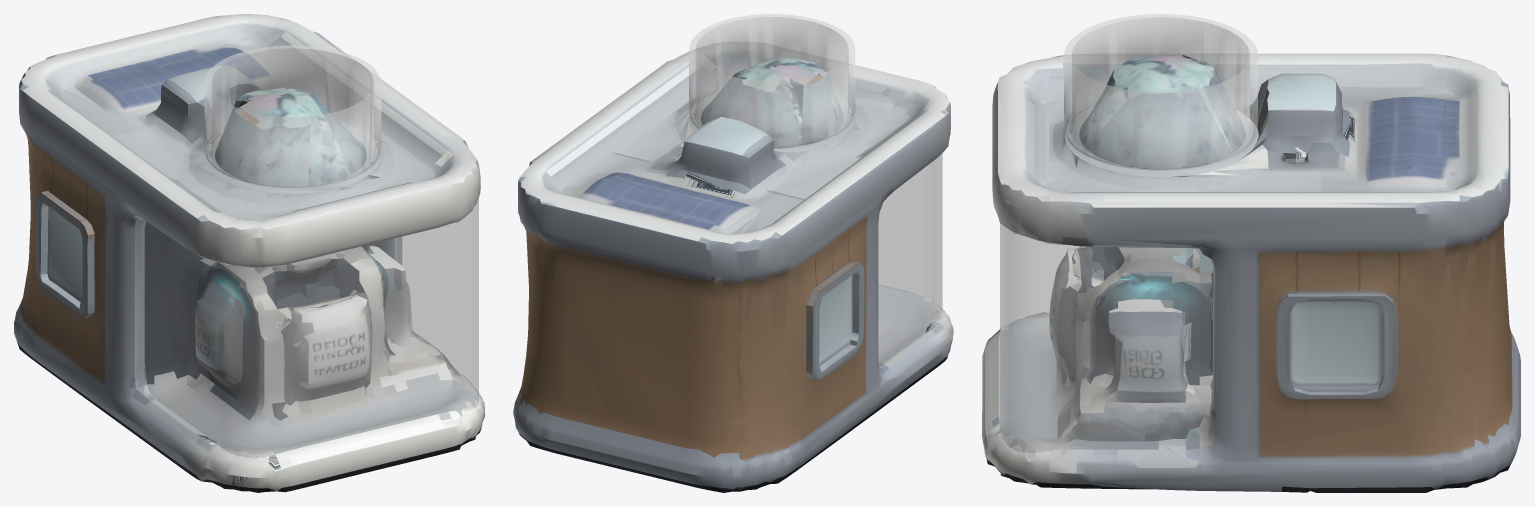
The model's file is wrappingmachine 2.fbx.
3 views of the same model, side by side, from view 1: azimuth 30°, elevation 25°; view 2: azimuth 150°, elevation 25°; view 3: azimuth 270°, elevation 25° (orthographic). The views are drawn at different scales.
Visible parts, largest first — view 1: building_retopo, Cube, building_retopo.001; view 2: building_retopo, building_retopo.001, Cube; view 3: building_retopo, Cube, building_retopo.001.
Boxes of the visible parts, x1,y1,x2,y2 form: building_retopo: [14, 14, 484, 492]; Cube: [112, 86, 478, 458]; building_retopo.001: [204, 45, 381, 188]; building_retopo: [513, 42, 953, 492]; building_retopo.001: [689, 14, 855, 148]; Cube: [612, 96, 942, 362]; building_retopo: [982, 53, 1520, 492]; Cube: [1000, 84, 1320, 453]; building_retopo.001: [1064, 14, 1257, 170].
Size of the model in its own units: 139 by 146 by 197.
Materials: 2 (1 with a texture image).
